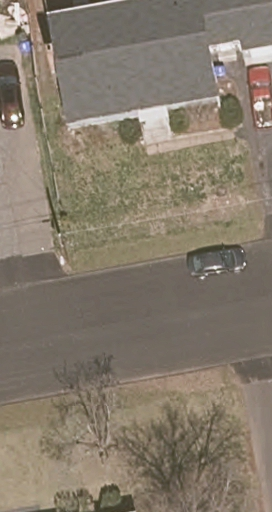DT: (40, 232, 69, 266)
